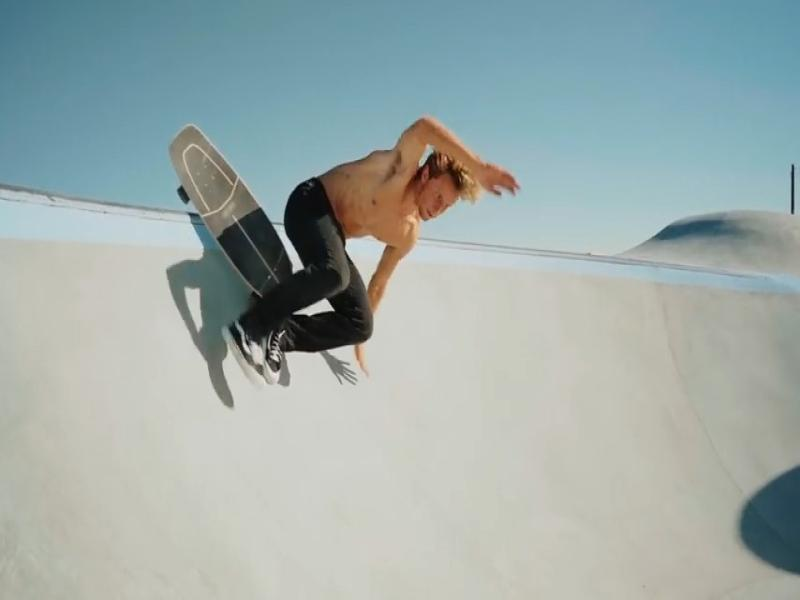person: (223, 117, 519, 383)
skate: (169, 125, 291, 296)
